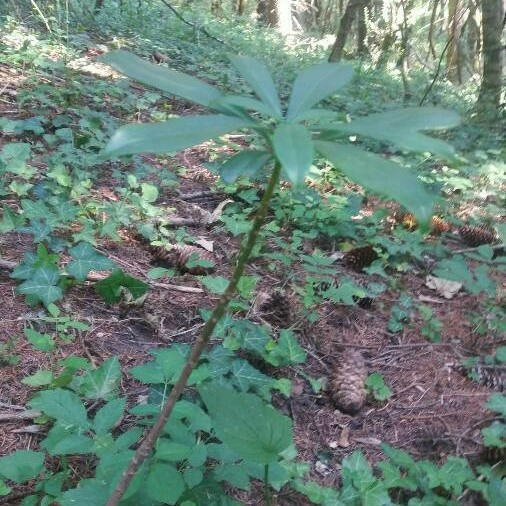obstacle: (21, 204, 320, 480), (96, 29, 437, 244)
